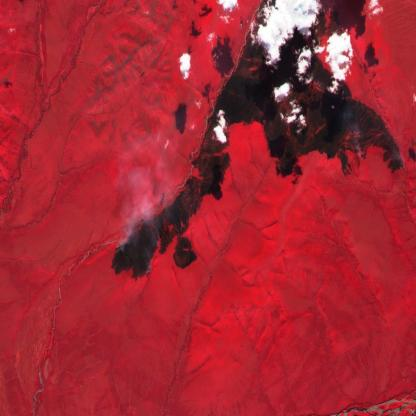fire: (110, 216, 165, 285)
